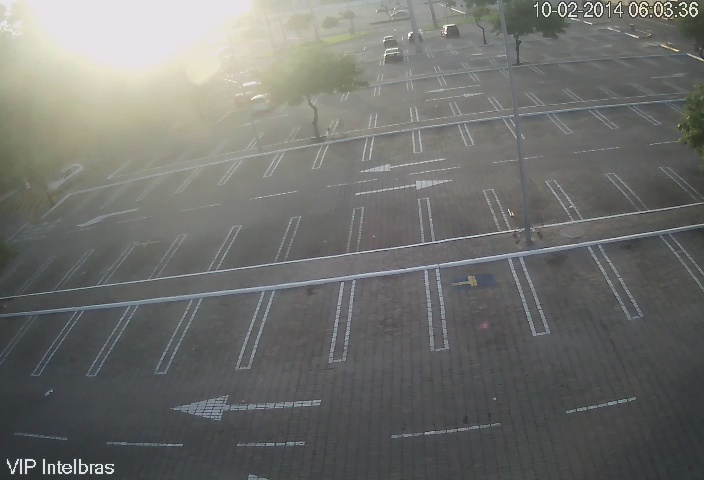lot: (431, 255, 533, 340), (347, 260, 438, 352), (258, 279, 346, 365), (514, 245, 617, 318), (593, 232, 693, 307), (179, 283, 252, 374), (106, 296, 175, 373), (52, 302, 114, 375), (343, 195, 424, 248), (418, 189, 501, 238), (227, 214, 296, 271), (556, 170, 636, 218), (284, 208, 359, 259), (616, 160, 693, 205), (490, 180, 569, 223), (165, 222, 221, 278), (1, 307, 48, 363), (116, 233, 169, 281), (363, 127, 425, 168), (35, 245, 81, 300), (509, 110, 568, 149), (77, 242, 125, 289), (320, 137, 372, 173), (593, 102, 649, 134), (271, 144, 321, 179), (415, 122, 464, 157), (465, 119, 516, 152), (553, 108, 608, 136), (635, 96, 683, 127), (227, 154, 275, 181), (194, 163, 235, 194), (151, 171, 195, 198), (292, 117, 332, 140), (114, 182, 152, 206), (367, 110, 418, 127), (84, 187, 117, 213), (453, 98, 500, 116), (531, 86, 575, 105), (494, 92, 539, 110), (327, 115, 373, 132), (213, 133, 256, 151), (573, 85, 616, 102), (256, 128, 294, 147), (416, 103, 464, 118), (609, 81, 646, 96)
